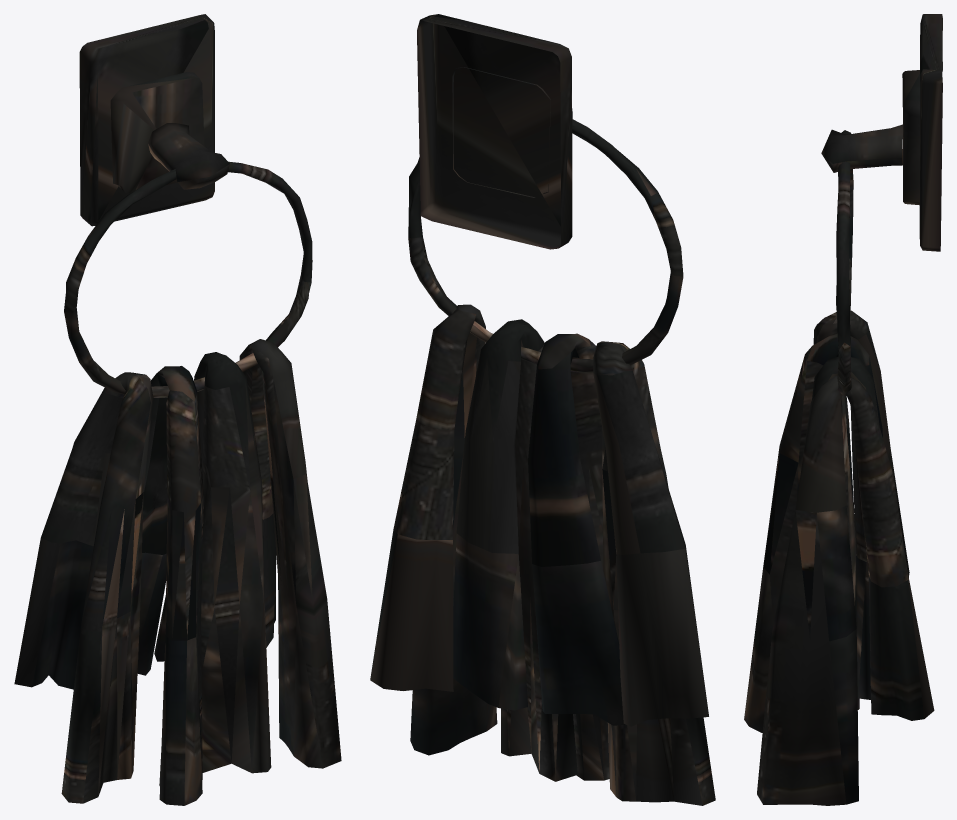
Rendered from Restroom4.fbx.
3 views of the same model, side by side, from view 1: azimuth 30°, elevation 25°; view 2: azimuth 150°, elevation 25°; view 3: azimuth 270°, elevation 25° (orthographic). The views are drawn at different scales.
Visible parts, largest first — view 1: Restroom4; view 2: Restroom4; view 3: Restroom4.
Part boxes in pixels (x1,y1,x2,y2): Restroom4: (14,14,341,805); Restroom4: (370,14,715,805); Restroom4: (744,14,942,805).
Bounding box in the file's own units: 166 × 396 × 99.96.
